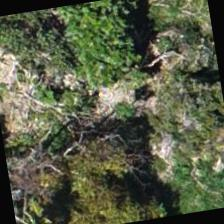Kelapa_Sawit: (10, 174, 78, 223)
